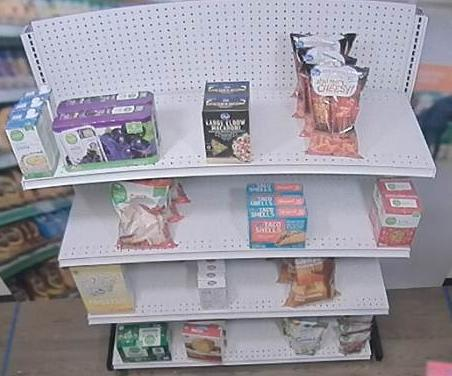stockout: (360, 68, 436, 166), (178, 178, 246, 250), (307, 177, 375, 246), (250, 78, 305, 160), (50, 185, 114, 255), (153, 83, 205, 165), (133, 263, 197, 313), (337, 259, 390, 306), (229, 260, 281, 307), (228, 321, 285, 358)
